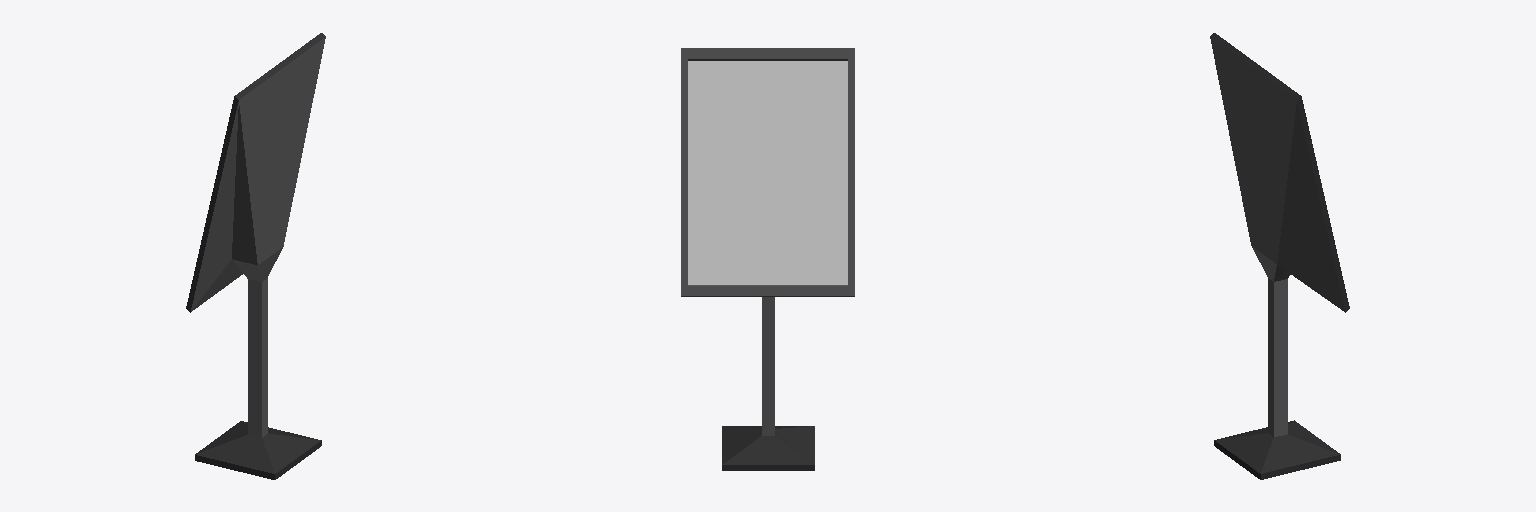
Rendered from DescriptionPanel.obj.
3 views of the same model, side by side, from view 1: azimuth 30°, elevation 25°; view 2: azimuth 150°, elevation 25°; view 3: azimuth 270°, elevation 25° (orthographic).
Parts seen in each view (by area): view 1: DescriptionPanel; view 2: DescriptionPanel; view 3: DescriptionPanel.
Boxes of the visible parts, x1,y1,x2,y2 form: DescriptionPanel: [186, 33, 325, 479]; DescriptionPanel: [681, 48, 854, 470]; DescriptionPanel: [1210, 33, 1349, 479].
Bounding box in the file's own units: 0.9774 × 2.34 × 0.7543.